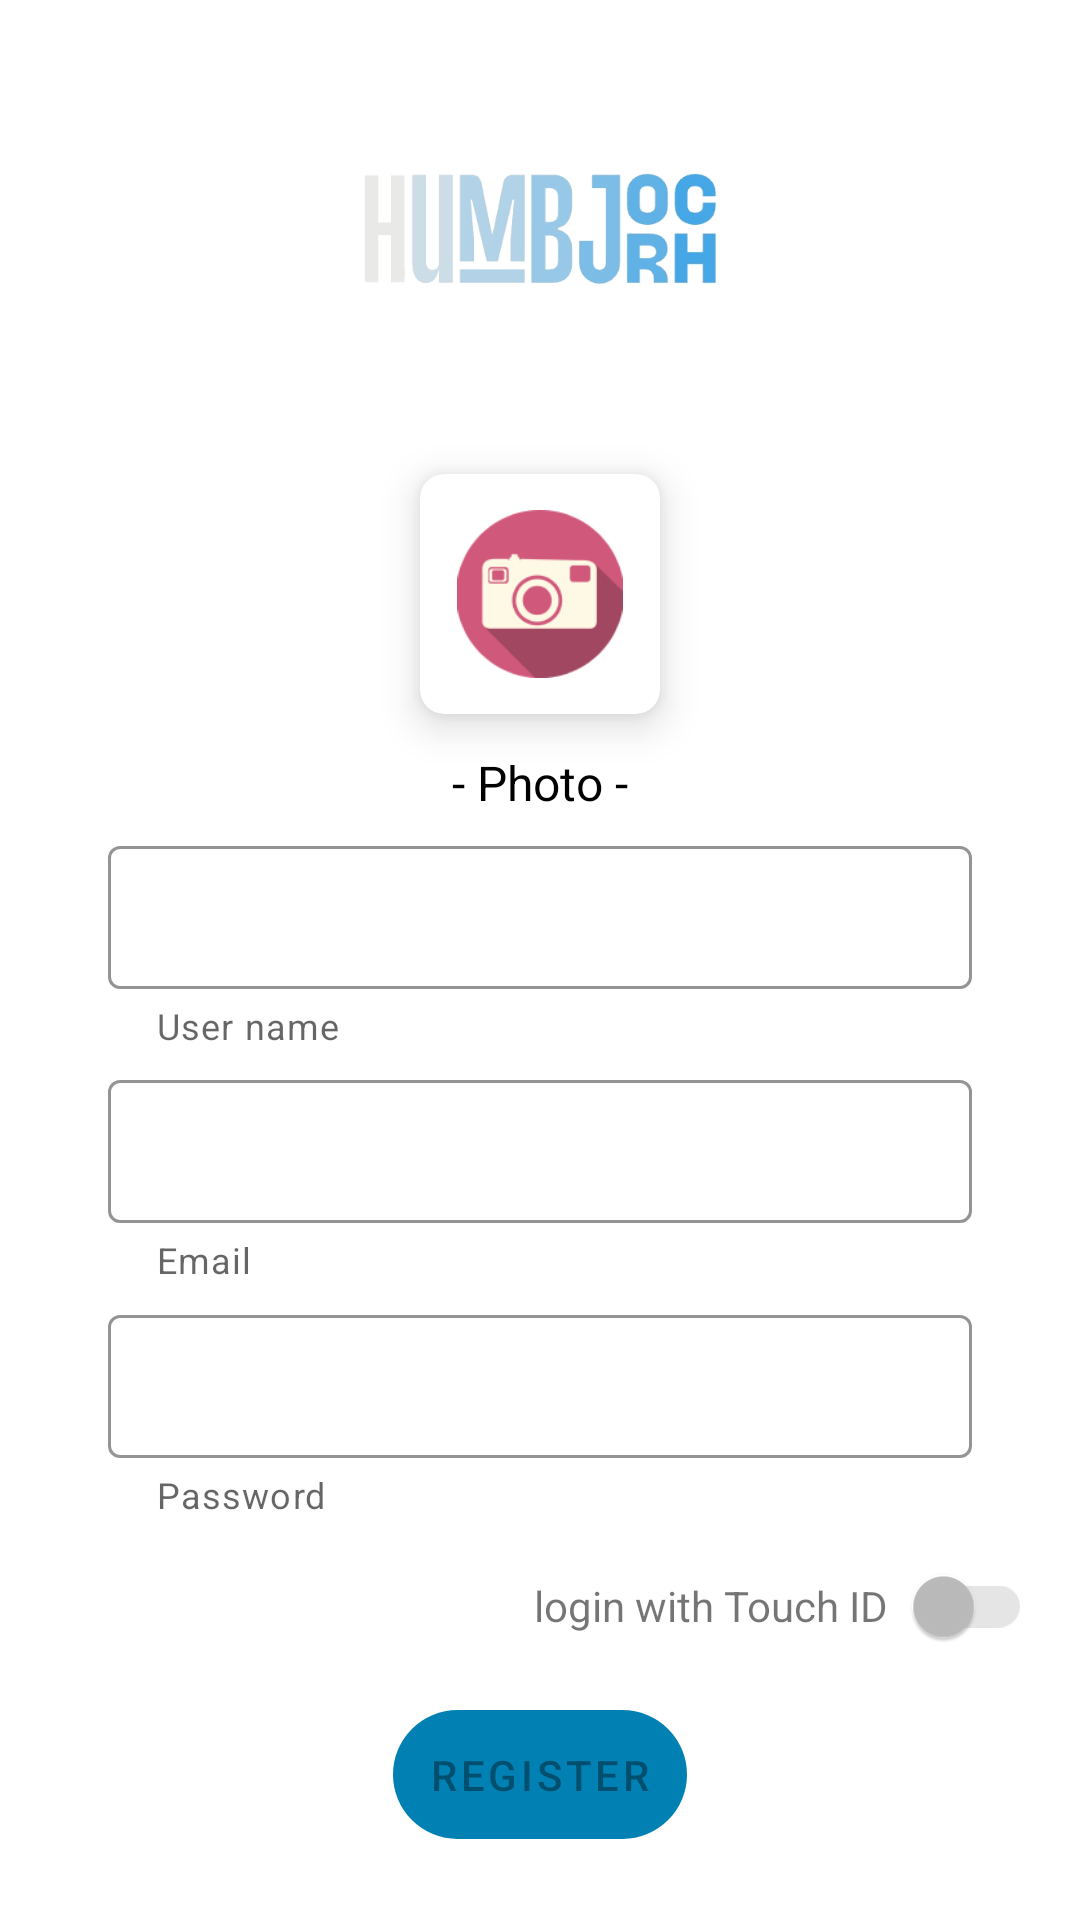

Icon click points for this 1080 x 1920 phone screenshot, format (x,y):
camera: (540,594)
